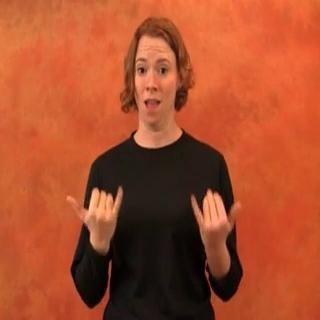now: (62, 187, 246, 249)
